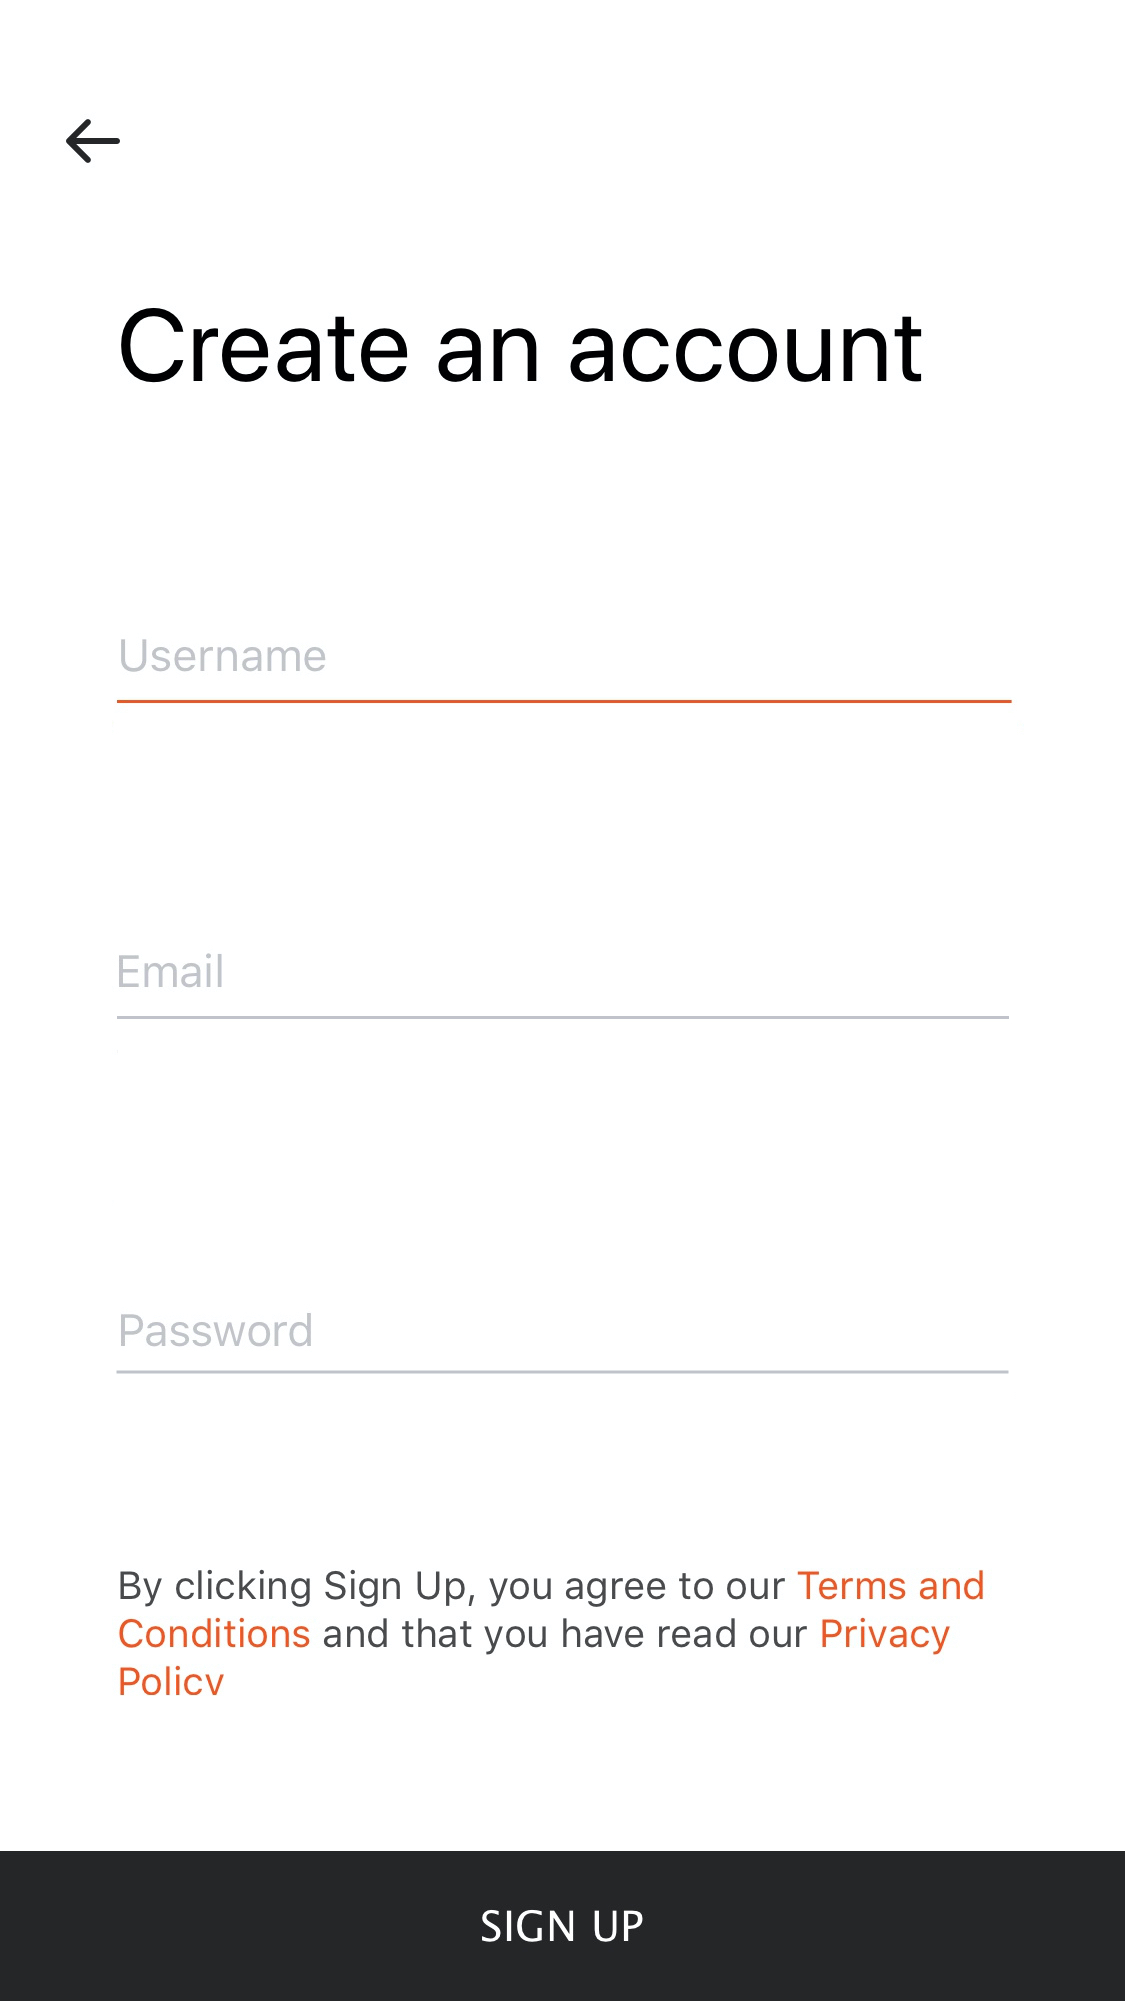EditText: (117, 952, 1010, 1020), (117, 639, 1012, 705), (117, 1312, 1010, 1374)
Icon: (66, 120, 122, 165)
Text: (120, 1569, 985, 1697), (121, 308, 922, 383)
TextButton: (1, 1851, 1125, 2001)
